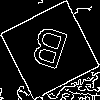B: (25, 25, 71, 79)
